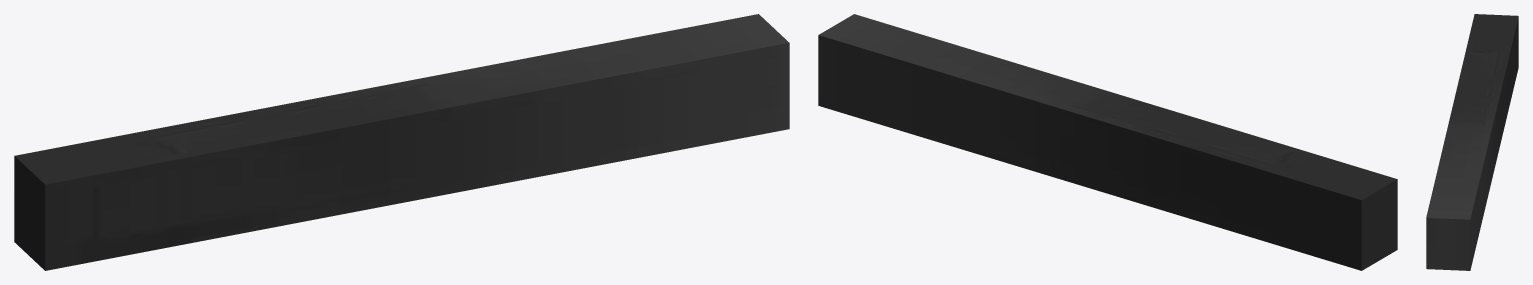
The model's file is seat__seat_rail_1.glb.
3 renders of one model, left to right at view 1: azimuth 30°, elevation 25°; view 2: azimuth 150°, elevation 25°; view 3: azimuth 270°, elevation 25°, orthographic. The views are drawn at different scales.
Parts seen in each view (by area): view 1: world; view 2: world; view 3: world.
Boxes of the visible parts, x1,y1,x2,y2 form: world: (14,14,789,270); world: (818,14,1397,270); world: (1426,14,1518,270).
Bounding box in the file's own units: 0.241 × 0.028 × 0.0459.
Materials: 1 (1 with a texture image).
